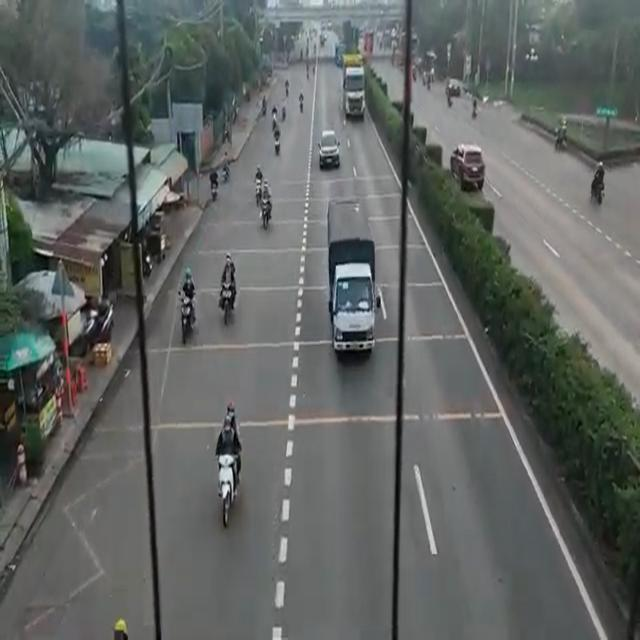car: (456, 145, 489, 187), (314, 125, 338, 170)
motor: (215, 400, 239, 532), (220, 271, 236, 330), (180, 283, 193, 347), (593, 155, 606, 207), (259, 200, 273, 233)
truck: (324, 188, 376, 365), (343, 60, 369, 117)
